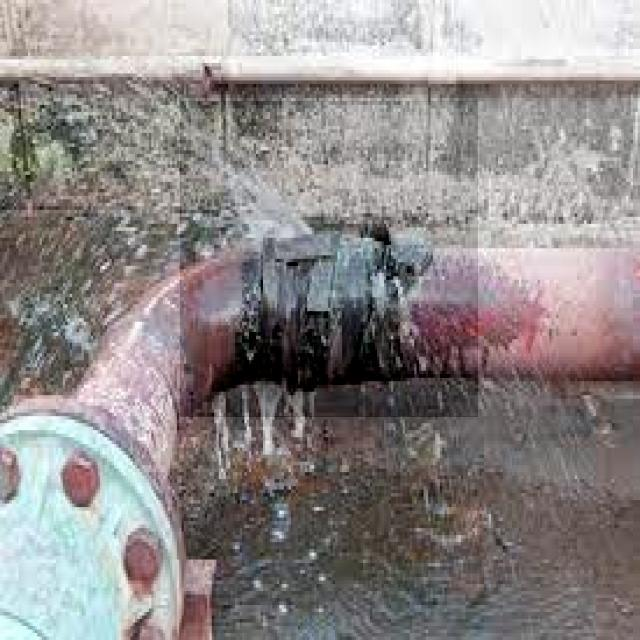corrosion: (236, 140, 439, 411)
